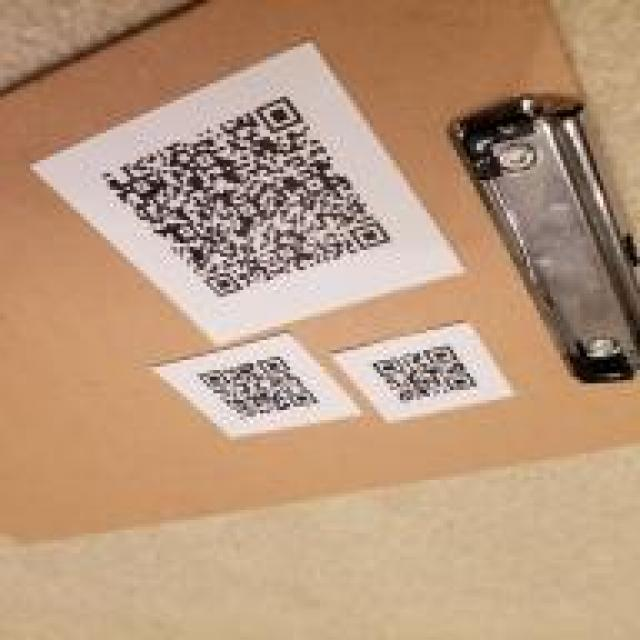qr_code: (102, 95, 390, 296), (198, 355, 320, 420), (372, 346, 477, 403)
